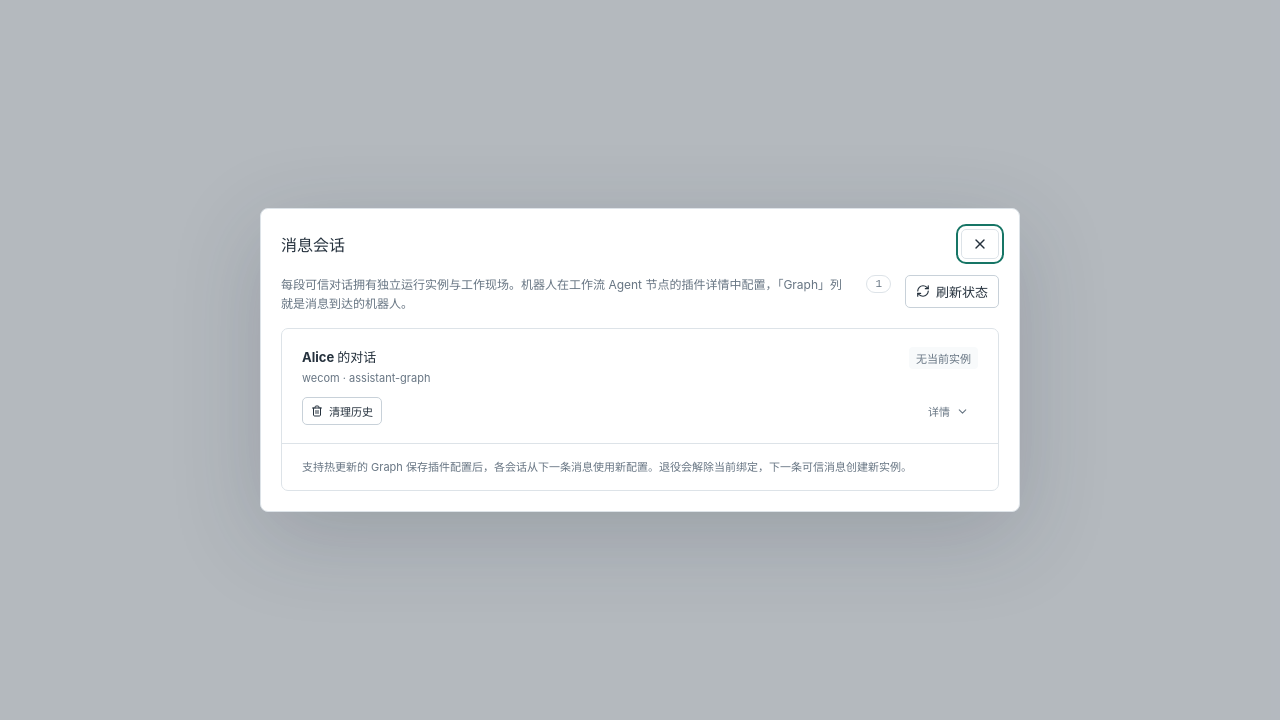
Scenario: message session management › cleans the confirmed history scope through Run deletion before Session deletion
Click the button "清理历史" at (342, 411), box [302,397,382,425]
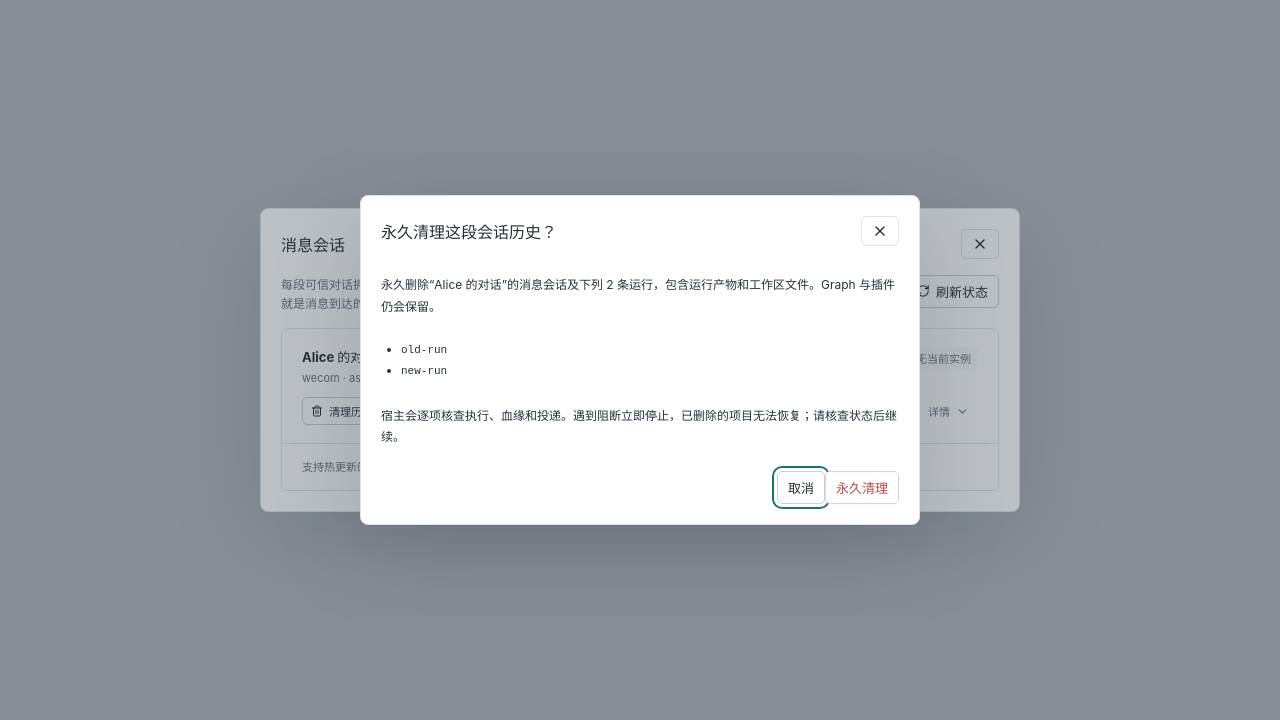
Result: the dialog shows "old-run" at [401,344,447,356]
Result: the dialog shows "new-run" at [401,365,447,377]
Click the button "永久清理" at (862, 488), box [825,471,899,504]
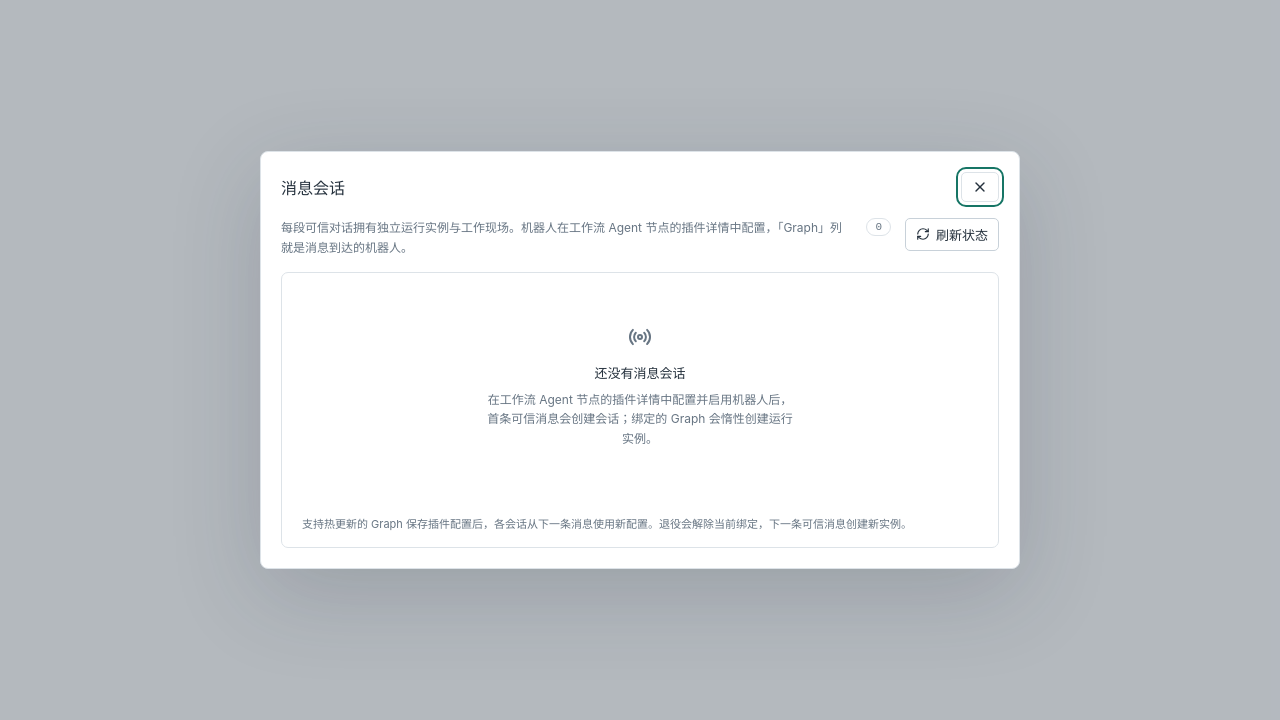
Result: the text "还没有消息会话" is shown at [594,362,686,382]
